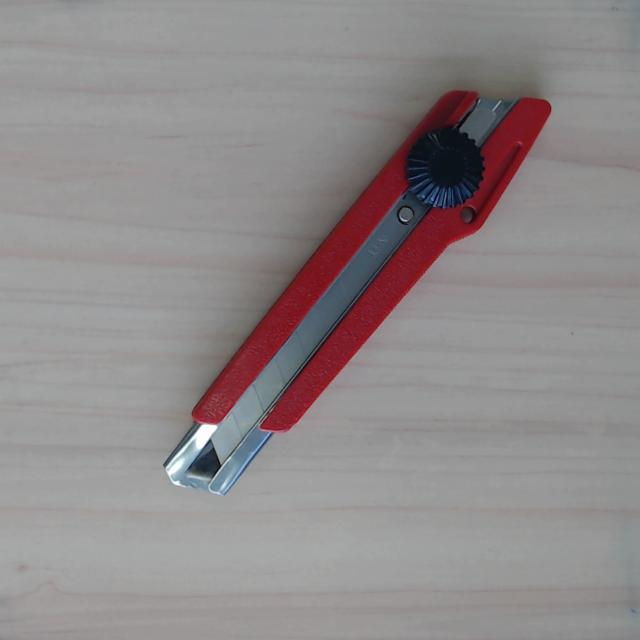Cutter-Besar: (122, 47, 575, 516)
